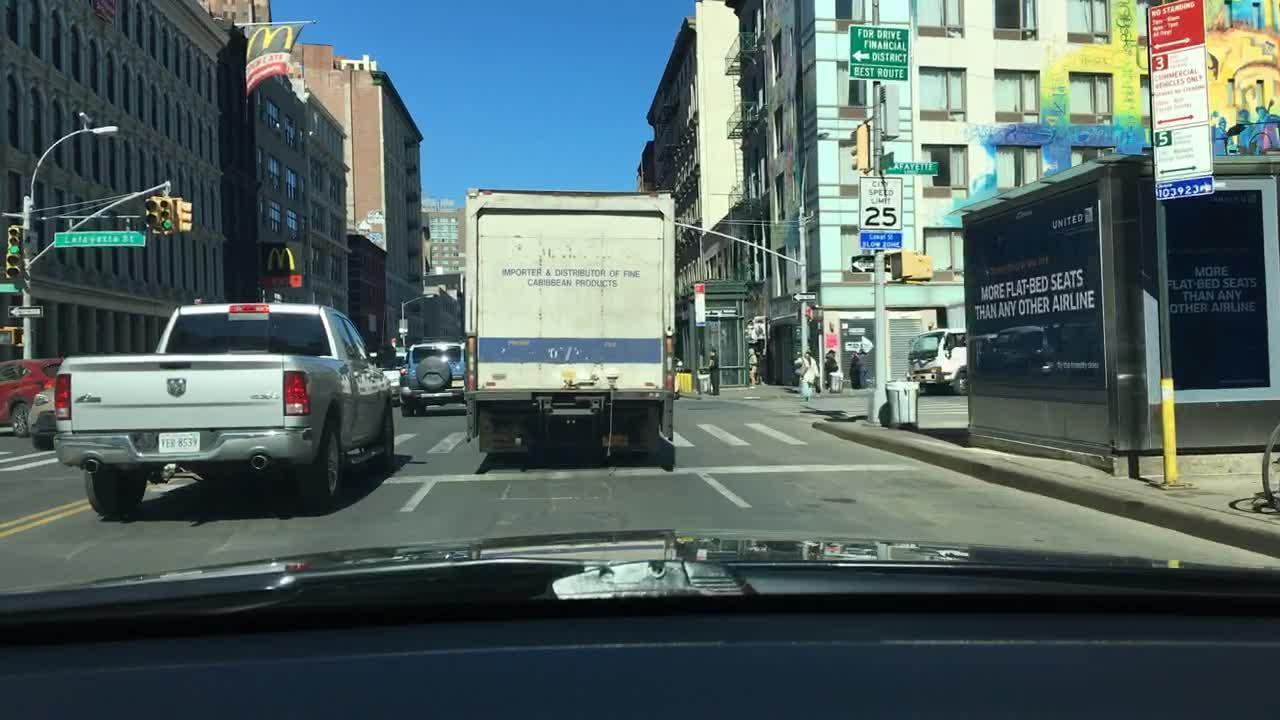ram: (164, 372, 193, 401)
